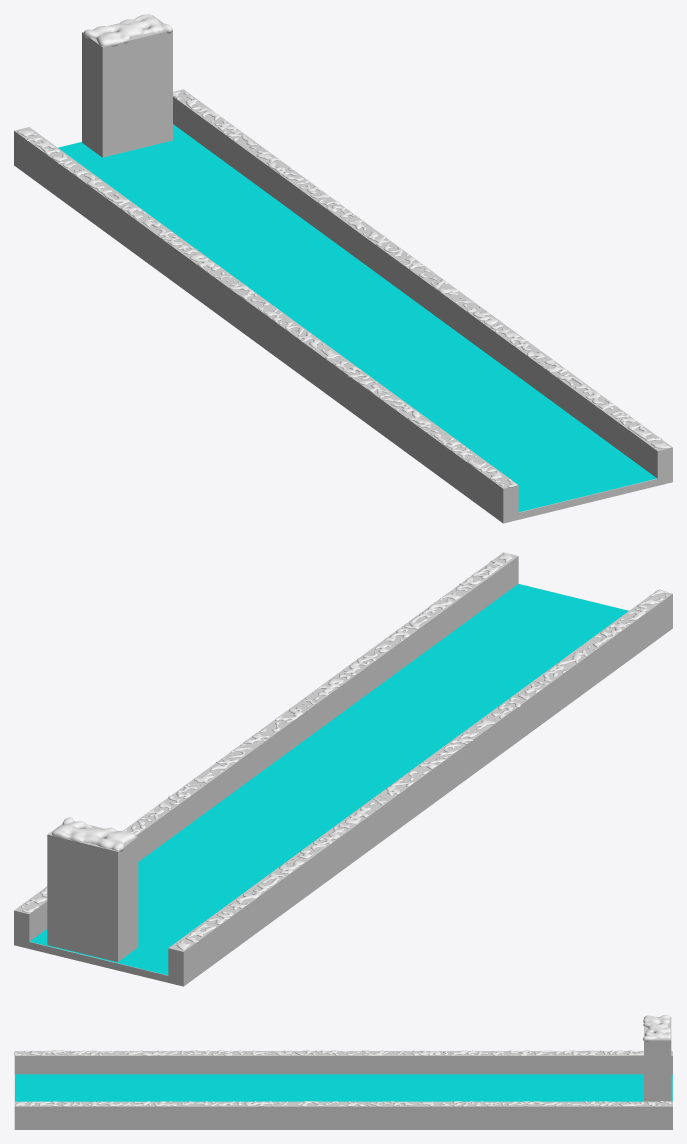
Rendered from Map147.fbx.
The picture shows the model from 3 angles, top to bottom: view 1: azimuth 30°, elevation 25°; view 2: azimuth 150°, elevation 25°; view 3: azimuth 270°, elevation 25°; orthographic projection. The views are drawn at different scales.
Visible parts, largest first — view 1: Plane.001, Cube.001, Cube.002, SnowBall.002, SnowBall.003, SnowBall.001; view 2: Plane.001, Cube.001, Cube.002, SnowBall.003, SnowBall.002, SnowBall.001; view 3: Cube.001, Plane.001, SnowBall.002, SnowBall.003, Cube.002, SnowBall.001.
Part boxes in pixels (left/top/right/bottom): Plane.001: left=58, top=124, right=656, bottom=512; Cube.001: left=14, top=89, right=672, bottom=523; Cube.002: left=82, top=15, right=172, bottom=157; SnowBall.002: left=173, top=91, right=670, bottom=448; SnowBall.003: left=17, top=130, right=517, bottom=487; SnowBall.001: left=83, top=14, right=172, bottom=46; Plane.001: left=30, top=584, right=628, bottom=975; Cube.001: left=14, top=552, right=672, bottom=986; Cube.002: left=47, top=823, right=138, bottom=961; SnowBall.003: left=176, top=589, right=667, bottom=949; SnowBall.002: left=21, top=552, right=512, bottom=912; SnowBall.001: left=52, top=817, right=136, bottom=851; Cube.001: left=14, top=1051, right=672, bottom=1129; Plane.001: left=15, top=1074, right=672, bottom=1101; SnowBall.002: left=15, top=1101, right=671, bottom=1106; SnowBall.003: left=14, top=1050, right=643, bottom=1055; Cube.002: left=644, top=1017, right=671, bottom=1101; SnowBall.001: left=643, top=1015, right=671, bottom=1041.
Bounding box in the file's own units: 244 × 166 × 1204.
